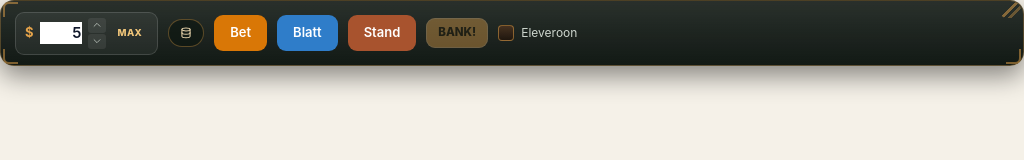
Test: PlayerDock bet amount field › still shows the insufficient-chips error for a path that does not clamp
Click the button "Bet".
click(241, 33)  # box top-left (214, 15), bottom-right (267, 51)
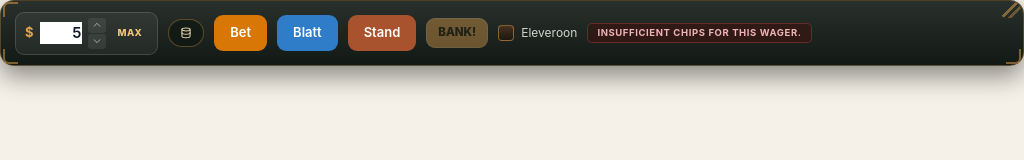
Check: the text "Insufficient chips for this wager." is shown, box top-left (587, 23), bottom-right (812, 43)
